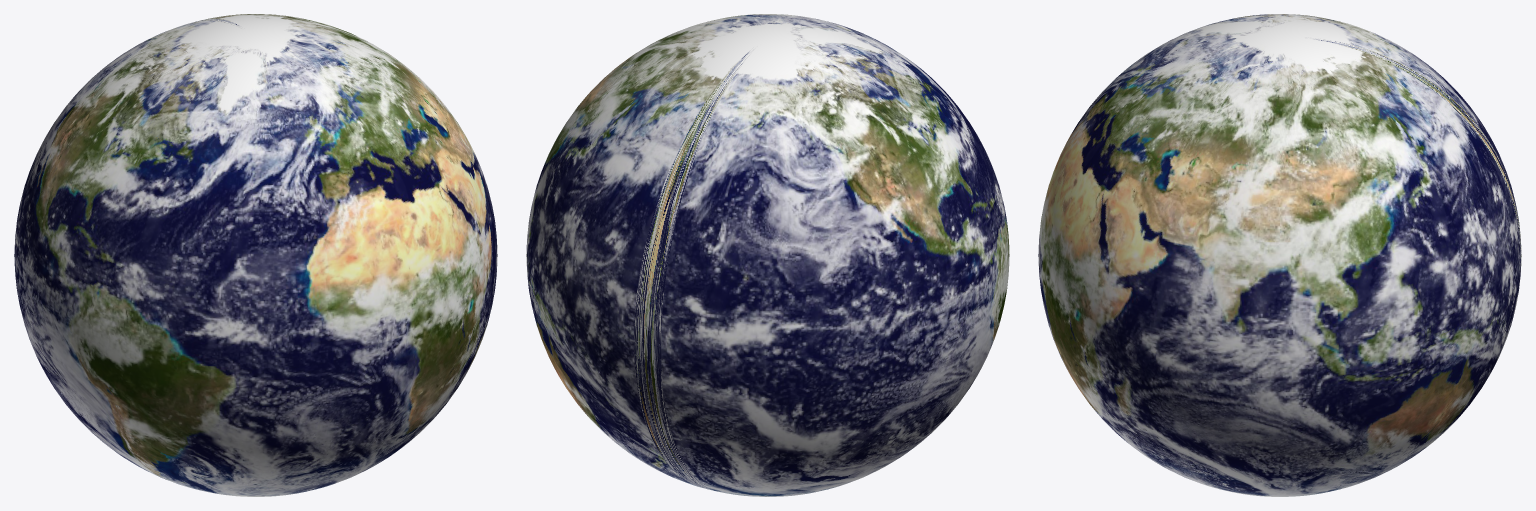
File: Earth_lod0.glb
3 renders of one model, left to right at view 1: azimuth 30°, elevation 25°; view 2: azimuth 150°, elevation 25°; view 3: azimuth 270°, elevation 25°, orthographic.
Visible parts, largest first — view 1: Sphere; view 2: Sphere; view 3: Sphere.
Boxes of the visible parts, <box> form: Sphere: <box>14,14,497,496</box>; Sphere: <box>526,14,1009,496</box>; Sphere: <box>1038,14,1521,496</box>.
Bounding box in the file's own units: 2 × 2 × 2.
Materials: 1 (1 with a texture image).
